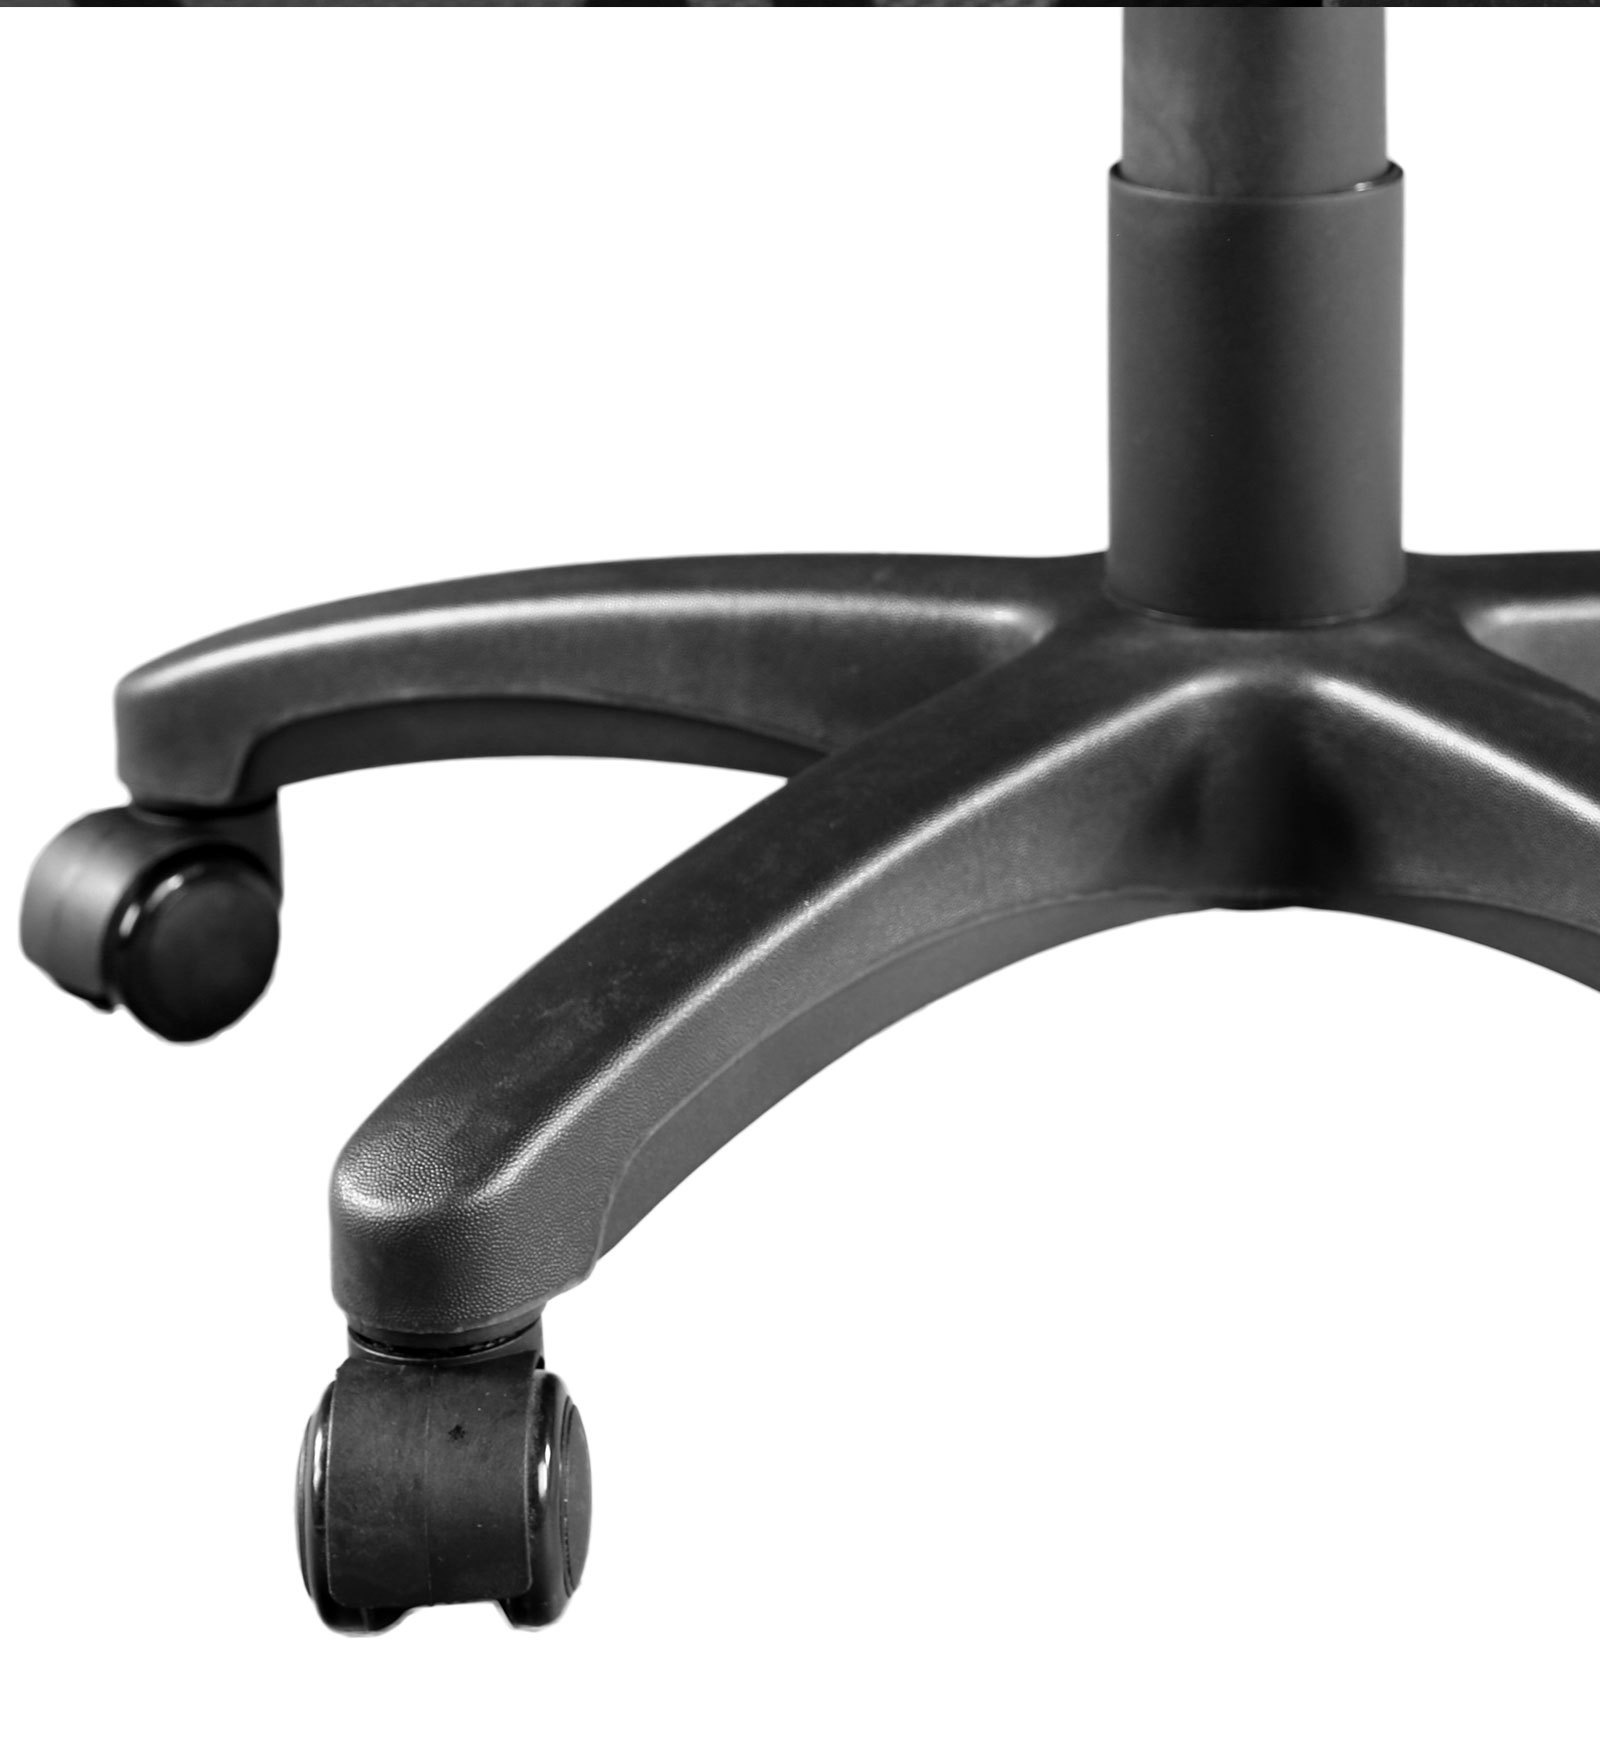Regus Low Back Mesh Chair in Green Colour by Hometown: (31, 369, 1600, 1654)
